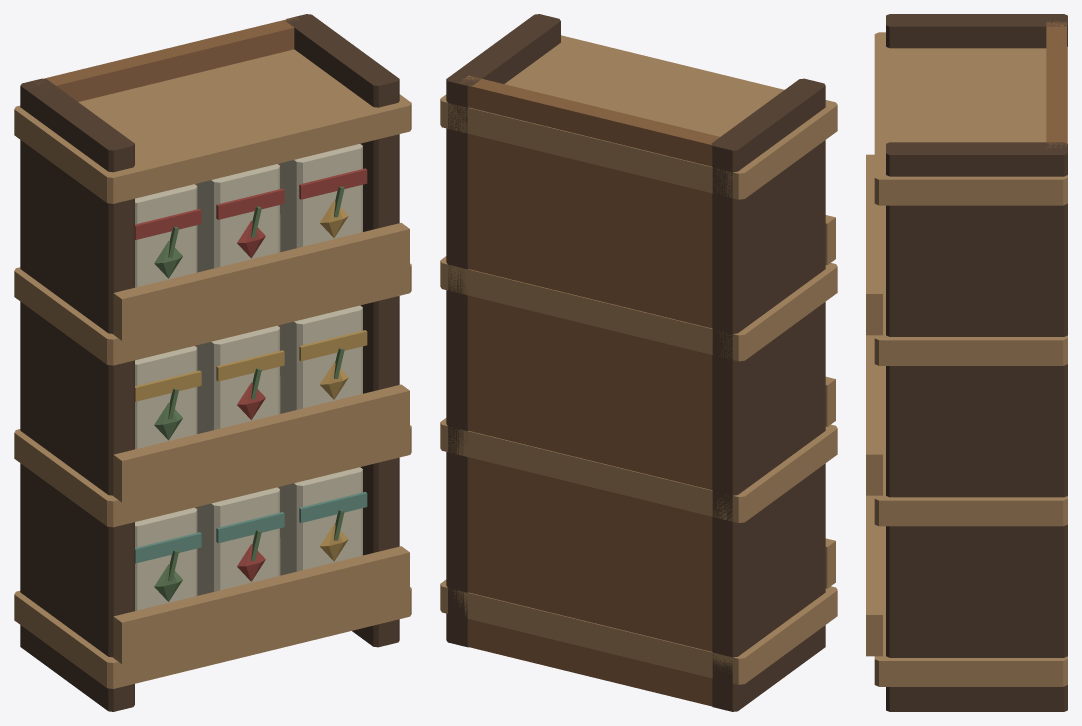
Rendered from seed_rack.glb.
The picture shows the model from 3 angles, left to right: view 1: azimuth 30°, elevation 25°; view 2: azimuth 150°, elevation 25°; view 3: azimuth 270°, elevation 25°; orthographic projection.
Visible parts, largest first — view 1: geometry; view 2: geometry; view 3: geometry.
Part boxes in pixels (box(x1,y1,x2,y2)): geometry: box(14, 14, 411, 711); geometry: box(440, 14, 837, 711); geometry: box(866, 14, 1067, 711).
Size of the model in its own units: 0.92 by 1.62 by 0.5325.
